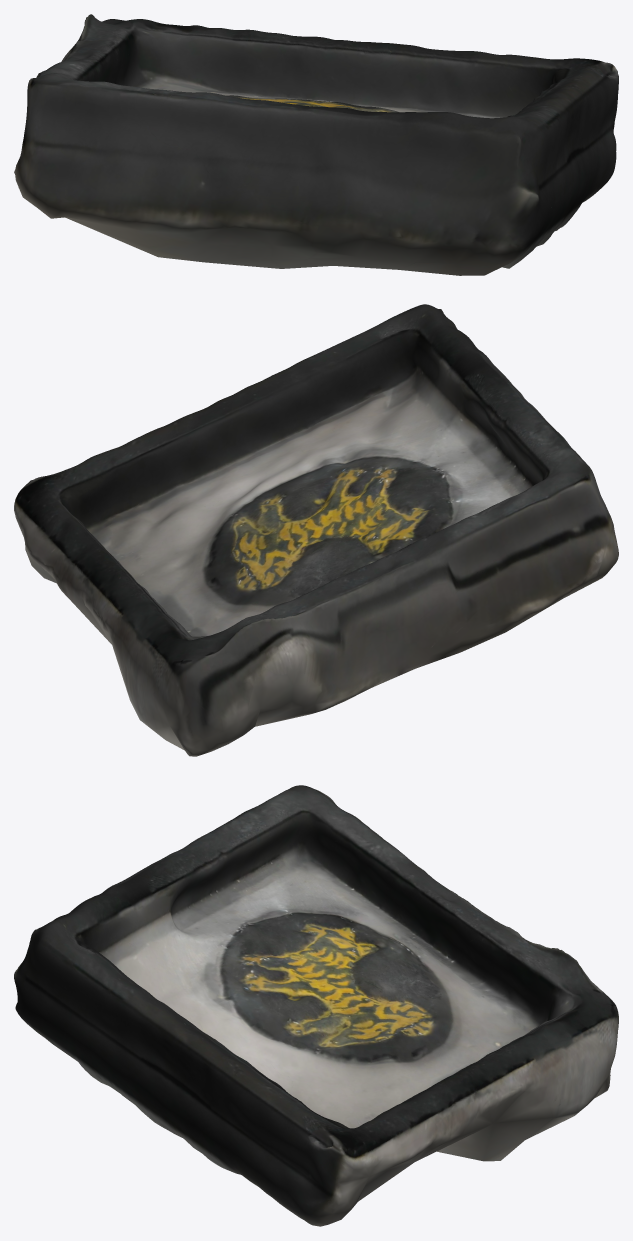
3 renders of one model, top to bottom at view 1: azimuth 30°, elevation 25°; view 2: azimuth 150°, elevation 25°; view 3: azimuth 270°, elevation 25°, orthographic. The views are drawn at different scales.
Bounding box in the file's own units: 0.8116 × 0.3552 × 0.8149.
1 material, 1 textured.
